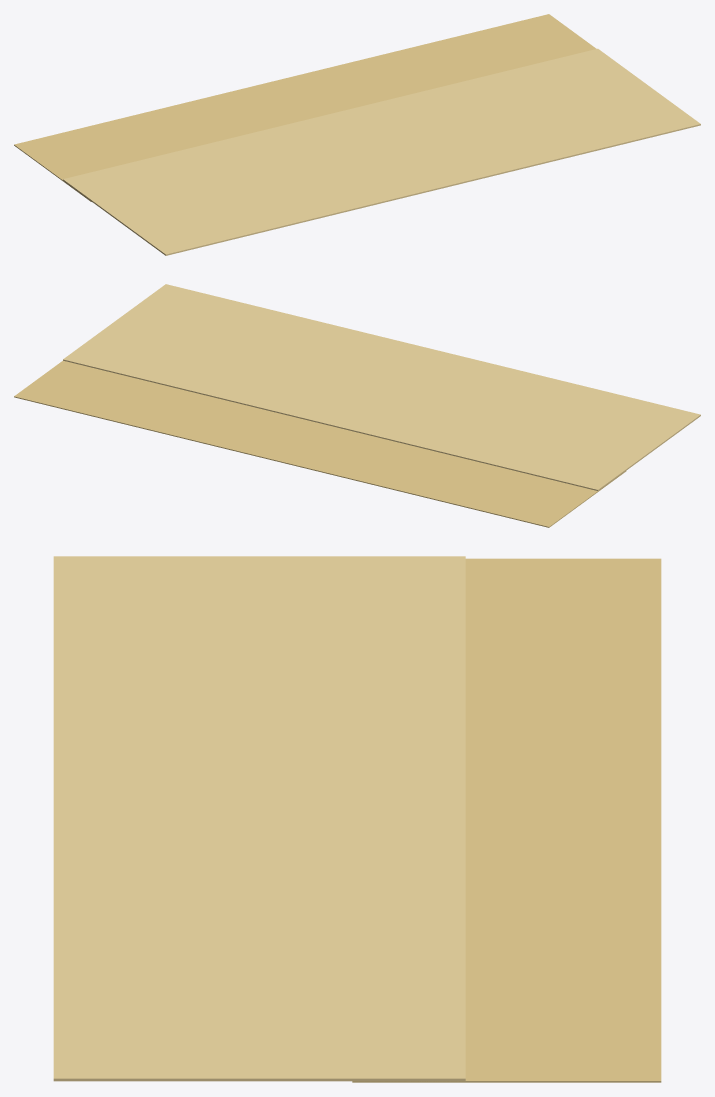
File: Surfing_Sand.fbx
The picture shows the model from 3 angles, top to bottom: view 1: azimuth 30°, elevation 25°; view 2: azimuth 150°, elevation 25°; view 3: azimuth 270°, elevation 25°; orthographic projection. The views are drawn at different scales.
Parts seen in each view (by area): view 1: Sand; view 2: Sand; view 3: Sand.
Part boxes in pixels (x1=…): Sand: x1=14, y1=14, x2=700, y2=255; Sand: x1=14, y1=284, x2=700, y2=527; Sand: x1=53, y1=556, x2=661, y2=1082.
Size of the model in its own units: 120 by 0.45 by 59.
